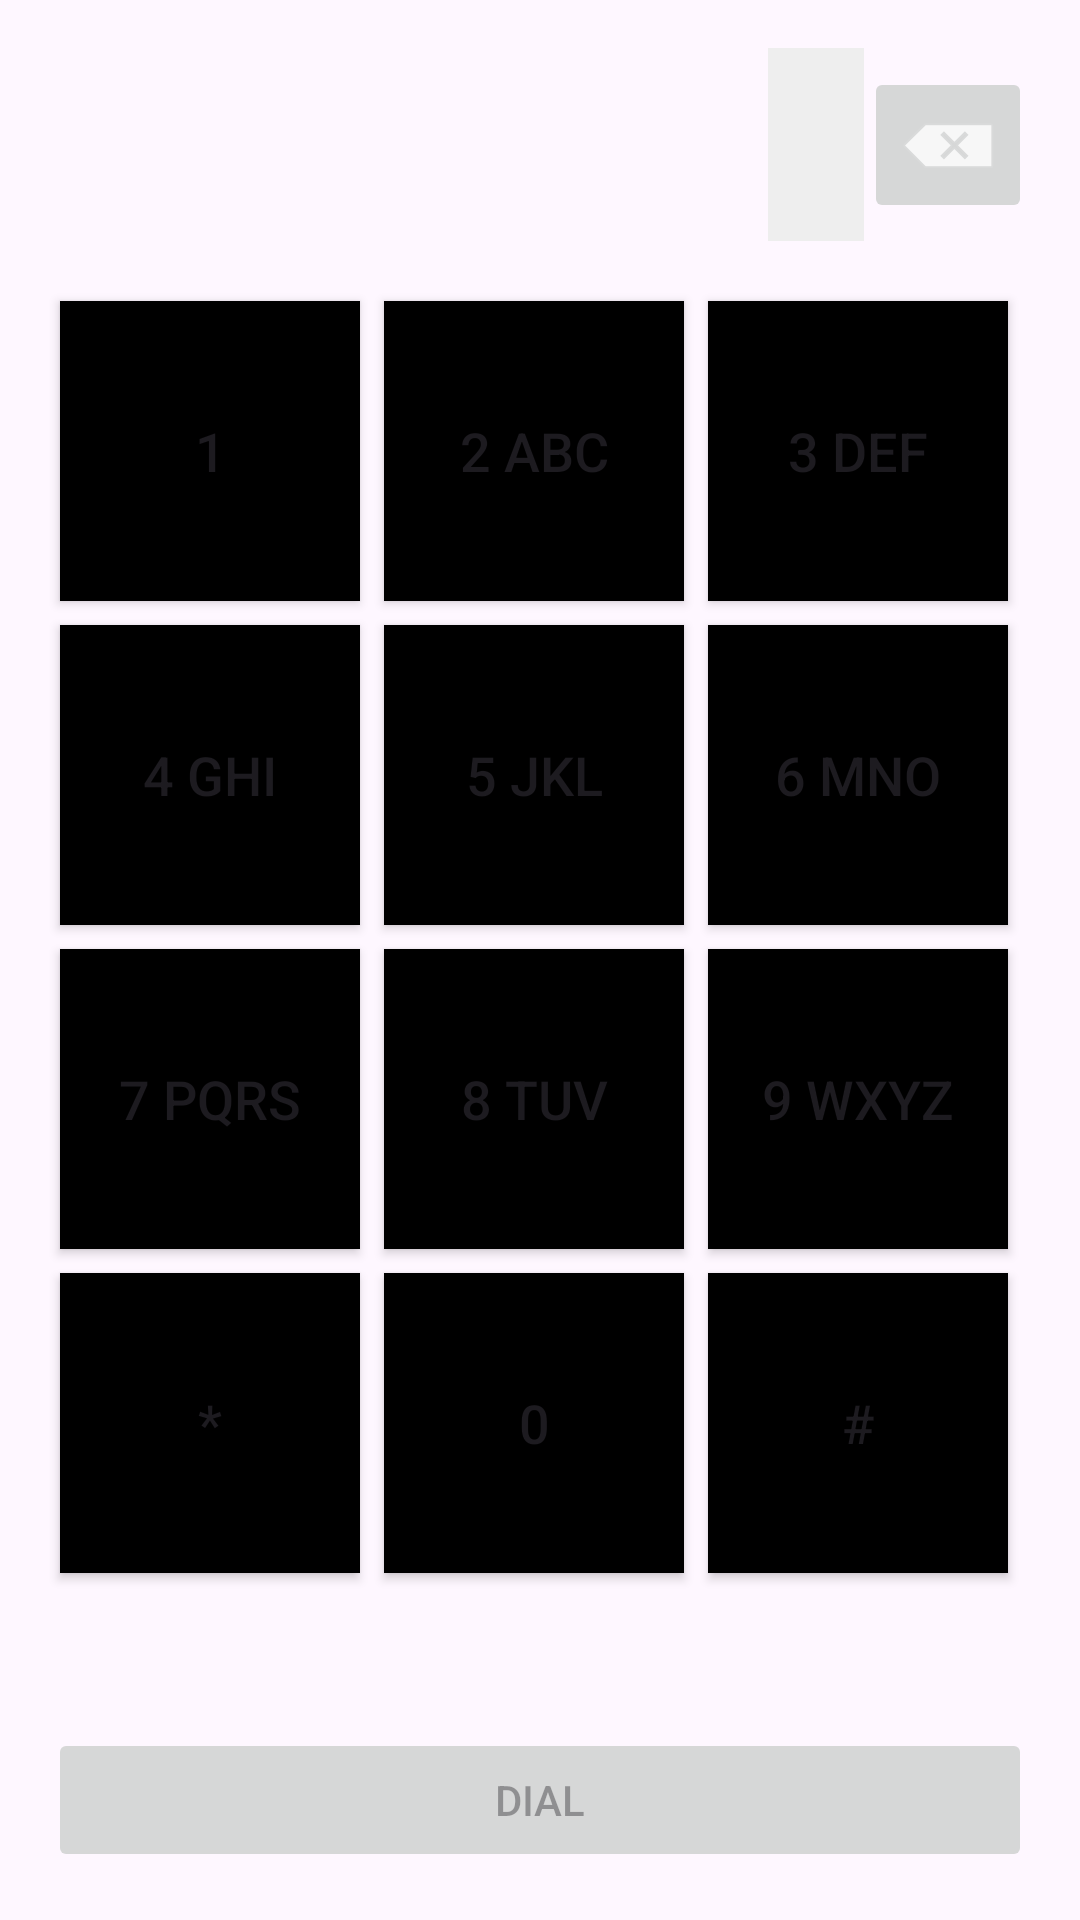

Icon bounding boxes for this 1080px×1920px phone screenshot, format bbox=(x1, y1, x2, y2):
Delete: bbox=(876, 85, 1020, 205)
